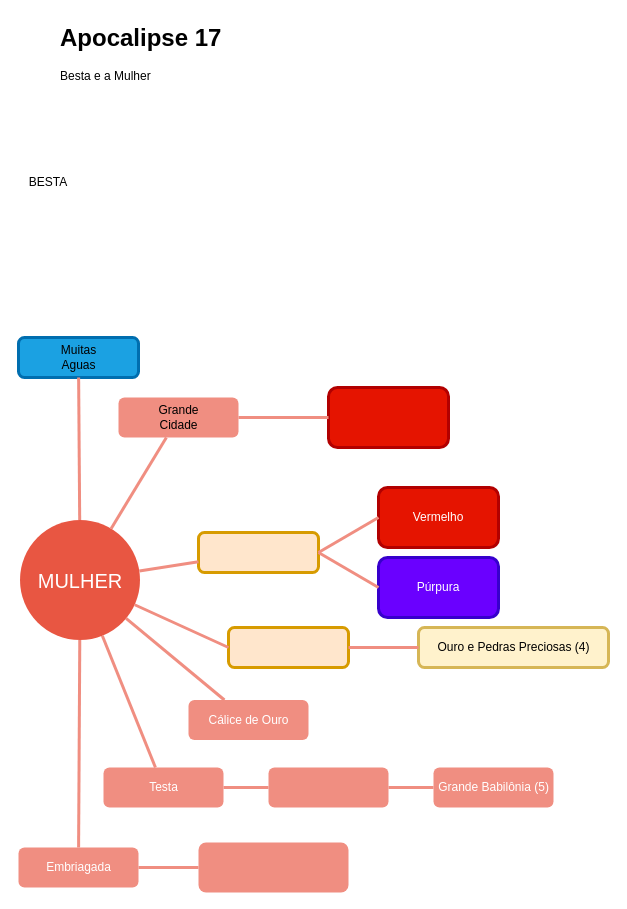
Image size: 627x909. Some labels were removed from this diagram. Here are the shapes that lost their labels. From the top down, the centre of each, then its label:
At (x=388, y=417): "Babílônia".
At (x=258, y=552): "Vestes".
At (x=288, y=647): "Adornos".
At (x=328, y=787): "Mãe".
At (x=273, y=867): "Sangue dos Santos e Testemunhas de Jesus".
